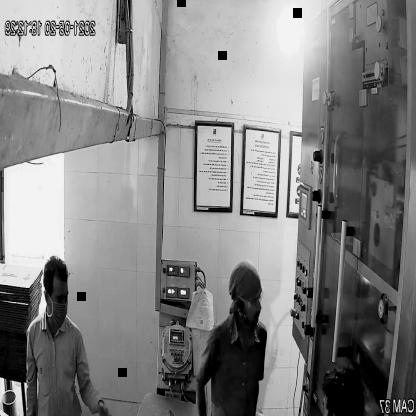goggles: (235, 286, 266, 308)
no_goggles: (45, 286, 72, 310)
